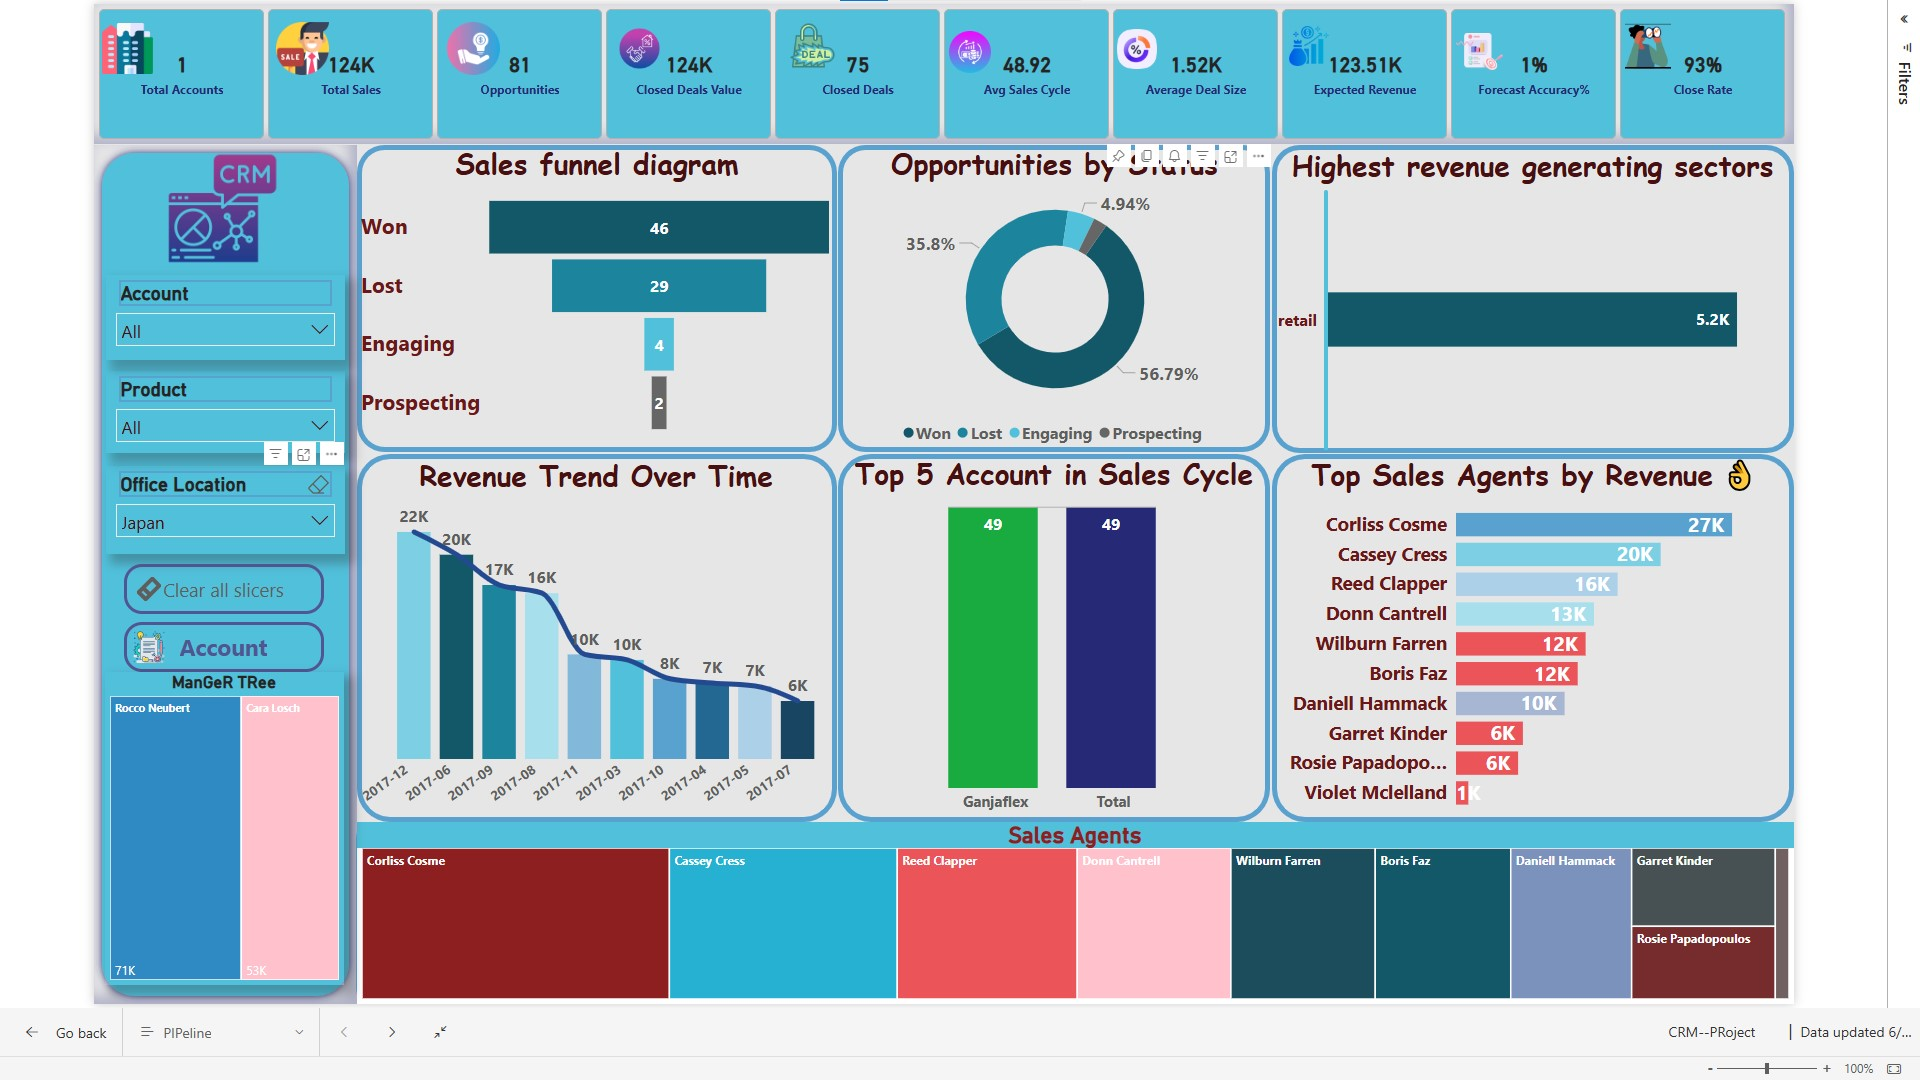

The dashboard page shown, as its layout file describes it:
{"tool":"powerbi","page":{"name":"PIPeline","canvas":[1700,1000],"ordinal":0},"visuals":[{"type":"shape","box":[0,141.5,263.4,858.5],"z":0},{"type":"shape","box":[744.3,140.9,431.6,306.8],"z":1000},{"type":"shape","box":[263.4,450,479.3,368.3],"z":2000},{"type":"shape","box":[262.8,140.9,480.1,306.8],"z":3000},{"type":"shape","box":[743.9,450,432,368.3],"z":4000},{"type":"shape","box":[1178,141.5,522,307.3],"z":5000},{"type":"shape","box":[1178,450,522,368.3],"z":6000},{"type":"shape","box":[264.2,819.2,1435.8,181.2],"z":7000},{"type":"cardVisual","fields":{"Data":["Calendar.Total Accounts","Calendar.Total Sales","Calendar.Total Opportunities","Calendar.Closed Deals Value","Calendar.Closed Deals","Calendar.Avg Sales Cycle","Calendar.Average Deal Size","Calendar.Expected Revenue","Calendar.Forecast Accuracy %","Calendar.Close Rate"]},"box":[0,0,1700,140.2],"z":8000},{"type":"funnel","title":"Sales funnel diagram","fields":{"Category":["sales_pipeline.Deal Stage"],"Y":["CountNonNull(sales_pipeline.Opportunity Id)"]},"box":[262.3,138.9,482.4,309.1],"z":9000},{"type":"barChart","title":"Highest revenue generating sectors","fields":{"Y":["Subsidiary Of.Total Revenue by Sector"],"Category":["Subsidiary Of.Sector"]},"box":[1178,141.5,522,309.8],"z":10000},{"type":"donutChart","title":"Opportunities by Status","fields":{"Category":["sales_pipeline.Deal Stage"],"Y":["CountNonNull(sales_pipeline.Opportunity Id)"]},"box":[743.9,139,434.1,309.8],"z":11000},{"type":"clusteredBarChart","title":"Top Sales Agents by Revenue 👌 ","fields":{"Category":["sales_pipeline.Sales Agent"],"Y":["Sum(sales_pipeline.Close Value)"]},"box":[1178,450,522,368.3],"z":12000},{"type":"lineStackedColumnComboChart","title":"Revenue Trend Over Time","fields":{"Category":["sales_pipeline.Close-Month"],"Y":["Calendar.Closed Deals Value"],"Y2":["Calendar.Total Sales"]},"box":[262.3,451.1,480.8,366.9],"z":13000},{"type":"waterfallChart","title":"Top 5 Account in Sales Cycle","fields":{"Category":["sales_pipeline.Account"],"Y":["Calendar.Avg Sales Cycle"]},"box":[742.7,448.8,435.4,369.5],"z":14000},{"type":"shape","box":[262.3,818,1437.7,182.6],"z":15000},{"type":"treemap","title":"Sales Agents","fields":{"Group":["sales_pipeline.Sales Agent"],"Values":["Sum(sales_pipeline.Close Value)"]},"box":[262.8,817.7,1437.2,182],"z":16000},{"type":"slicer","fields":{"Values":["sales_pipeline.Account"]},"box":[12.2,271.1,239.3,85.1],"z":17000},{"type":"slicer","fields":{"Values":["sales_pipeline.Product"]},"box":[12.2,366.6,239.3,82.2],"z":18000},{"type":"slicer","fields":{"Values":["Subsidiary Of.Office Location"]},"box":[12.2,462,239.3,88.1],"z":19000},{"type":"actionButton","box":[30.5,559.5,200,50],"z":21000},{"type":"actionButton","box":[30.5,618.1,200,50],"z":22000},{"type":"treemap","title":"ManGeR TRee","fields":{"Group":["sales_teams.Manager"],"Values":["Sum(sales_pipeline.Close Value)"]},"box":[10.7,668,239.6,313.2],"z":23000},{"type":"image","box":[10.4,138,240.3,130.5],"z":23001},{"type":"image","box":[3,3,60.8,81.6],"z":23002},{"type":"image","box":[172.1,13.4,72.7,62.3],"z":23003},{"type":"image","box":[344.2,13.4,71.2,62.3],"z":23004},{"type":"image","box":[510.3,19.3,71.2,50.4],"z":23005},{"type":"image","box":[676.4,13.4,86,56.4],"z":23006},{"type":"image","box":[850,19.3,51.9,56.4],"z":23007},{"type":"image","box":[1017.6,13.4,50.4,62.3],"z":23008},{"type":"image","box":[1189.7,13.4,50.4,56.4],"z":23009},{"type":"image","box":[1357.3,19.3,56.4,56.4],"z":23010},{"type":"image","box":[1525.8,12.8,56.4,57.6],"z":23011}]}

Visuals, with their boxes on the page's 1700x1000 design canvas (x1, y1, x2, y2). These are canvas units, not pixel positions in the 1920x1080 screenshot, which may show the page scaled, cropped or inside an application window:
shape: x1=0 y1=142 x2=263 y2=1000
shape: x1=744 y1=141 x2=1176 y2=448
shape: x1=263 y1=450 x2=743 y2=818
shape: x1=263 y1=141 x2=743 y2=448
shape: x1=744 y1=450 x2=1176 y2=818
shape: x1=1178 y1=142 x2=1700 y2=449
shape: x1=1178 y1=450 x2=1700 y2=818
shape: x1=264 y1=819 x2=1700 y2=1000
cardVisual - Calendar.Total Accounts x Calendar.Total Sales: x1=0 y1=0 x2=1700 y2=140
"Sales funnel diagram" funnel: x1=262 y1=139 x2=745 y2=448
"Highest revenue generating sectors" barChart: x1=1178 y1=142 x2=1700 y2=451
"Opportunities by Status" donutChart: x1=744 y1=139 x2=1178 y2=449
"Top Sales Agents by Revenue 👌 " clusteredBarChart: x1=1178 y1=450 x2=1700 y2=818
"Revenue Trend Over Time" lineStackedColumnComboChart: x1=262 y1=451 x2=743 y2=818
"Top 5 Account in Sales Cycle" waterfallChart: x1=743 y1=449 x2=1178 y2=818
shape: x1=262 y1=818 x2=1700 y2=1001
"Sales Agents" treemap: x1=263 y1=818 x2=1700 y2=1000
slicer - sales_pipeline.Account: x1=12 y1=271 x2=252 y2=356
slicer - sales_pipeline.Product: x1=12 y1=367 x2=252 y2=449
slicer - Subsidiary Of.Office Location: x1=12 y1=462 x2=252 y2=550
actionButton: x1=30 y1=560 x2=230 y2=610
actionButton: x1=30 y1=618 x2=230 y2=668
"ManGeR TRee" treemap: x1=11 y1=668 x2=250 y2=981
image: x1=10 y1=138 x2=251 y2=268
image: x1=3 y1=3 x2=64 y2=85
image: x1=172 y1=13 x2=245 y2=76
image: x1=344 y1=13 x2=415 y2=76
image: x1=510 y1=19 x2=582 y2=70
image: x1=676 y1=13 x2=762 y2=70
image: x1=850 y1=19 x2=902 y2=76
image: x1=1018 y1=13 x2=1068 y2=76
image: x1=1190 y1=13 x2=1240 y2=70
image: x1=1357 y1=19 x2=1414 y2=76
image: x1=1526 y1=13 x2=1582 y2=70
